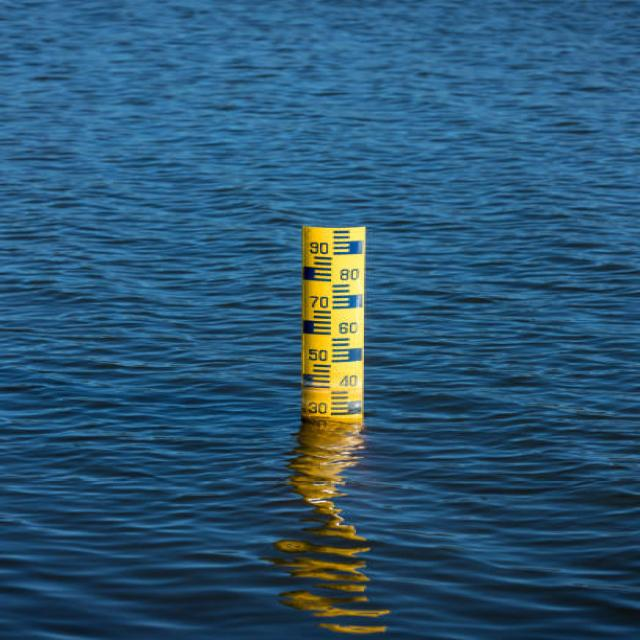ruler: (292, 217, 376, 427)
value: (303, 399, 332, 417), (302, 240, 332, 256), (332, 320, 362, 336), (332, 373, 362, 389), (303, 293, 331, 310), (334, 266, 362, 282), (304, 347, 332, 363)
